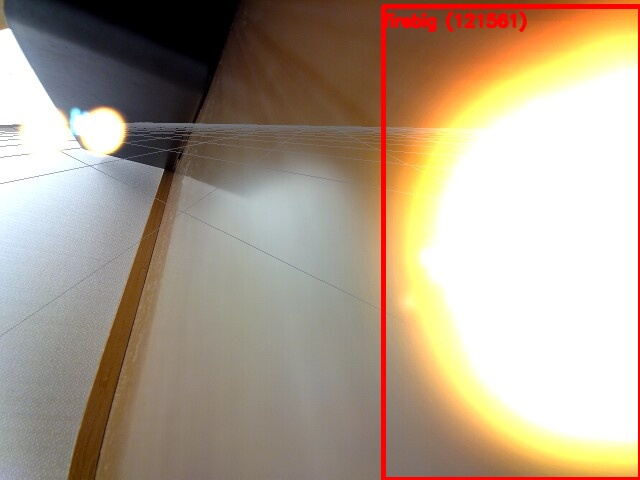firebig: (383, 6, 640, 479)
